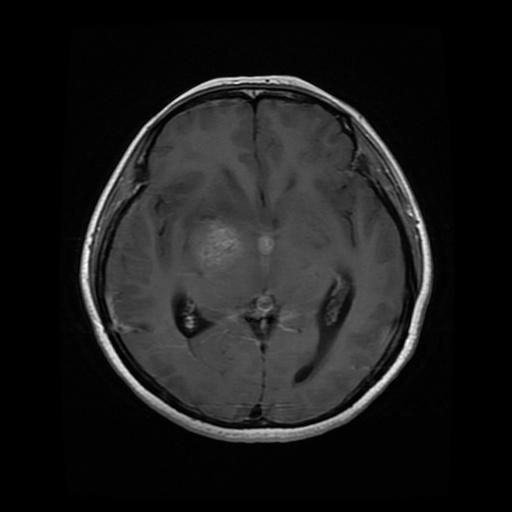glioma: (182, 214, 276, 277)
